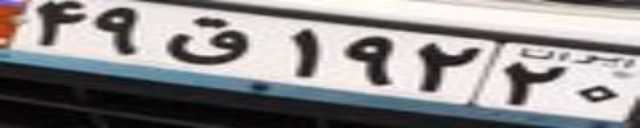0: (577, 84, 617, 105)
1: (284, 29, 321, 78)
2: (502, 61, 568, 108), (417, 43, 479, 93)
4: (35, 0, 85, 47)
9: (342, 33, 390, 86), (94, 4, 140, 56)
ghaf: (166, 14, 248, 66)
